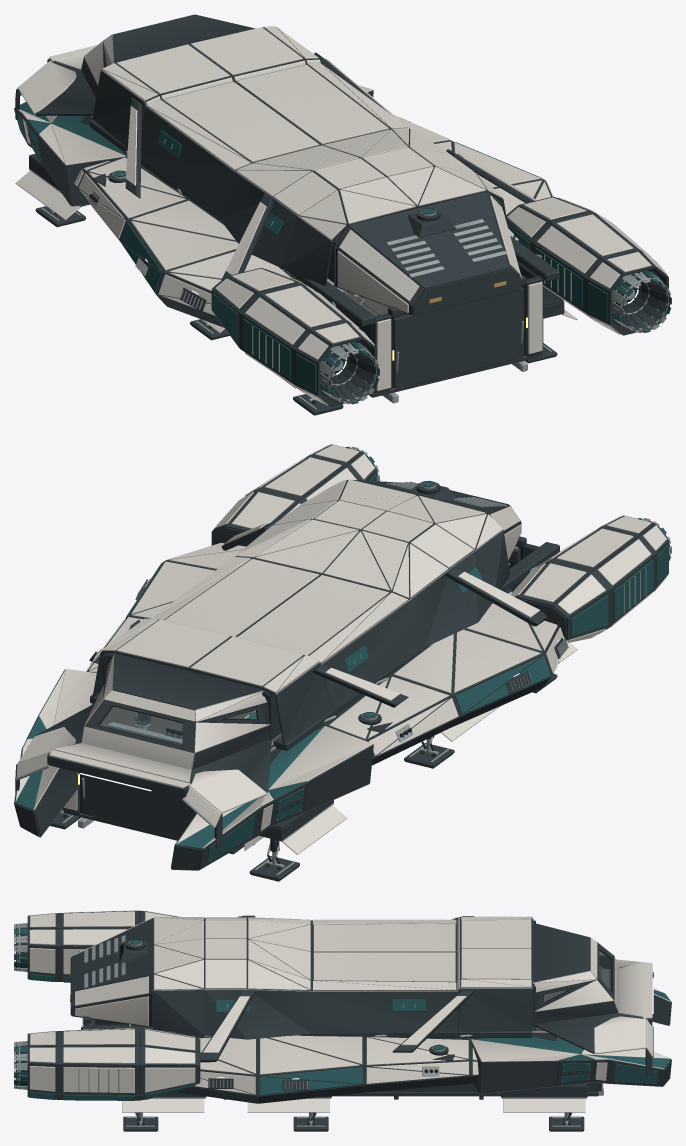
Rendered from atlas-mark-ii.glb.
3 renders of one model, top to bottom at view 1: azimuth 30°, elevation 25°; view 2: azimuth 150°, elevation 25°; view 3: azimuth 270°, elevation 25°, orthographic. The views are drawn at different scales.
Visible parts, largest first — view 1: MeridianDorsalShell_ivory Geometry, MeridianDorsalShell_dark Geometry, AftEngineering_dark Geometry, PortLoadShoulder_ivory Geometry, RampAft_dark Geometry, PortDrive_ivory Geometry, StarboardDrive_ivory Geometry, PortDrive_dark Geometry, StarboardDrive_dark Geometry, ExteriorStructure_dark Geometry, AftEngineering_ivory Geometry, PressureBridge_dark Geometry (+17 smaller); view 2: MeridianDorsalShell_ivory Geometry, MeridianDorsalShell_dark Geometry, PortLoadShoulder_ivory Geometry, PressureBridge_dark Geometry, PortDrive_ivory Geometry, PressureBridge_ivory Geometry, LoadingBow_ivory Geometry, StarboardDrive_ivory Geometry, PortBowCheek_dark Geometry, PortLoadShoulder_dark Geometry, RampFront_dark Geometry, PortDrive_dark Geometry (+19 smaller); view 3: MeridianDorsalShell_ivory Geometry, MeridianDorsalShell_dark Geometry, StarboardLoadShoulder_ivory Geometry, StarboardDrive_ivory Geometry, StarboardLoadShoulder_dark Geometry, PressureBridge_dark Geometry, AftEngineering_dark Geometry, PortDrive_ivory Geometry, StarboardBowCheek_dark Geometry, StarboardDrive_dark Geometry, ExteriorStructure_dark Geometry, AftEngineering_ivory Geometry (+25 smaller).
Boxes of the visible parts, x1,y1,x2,y2 form: MeridianDorsalShell_ivory Geometry: (102, 26, 536, 274); MeridianDorsalShell_dark Geometry: (92, 27, 533, 285); AftEngineering_dark Geometry: (334, 191, 521, 315); PortLoadShoulder_ivory Geometry: (74, 153, 290, 315); RampAft_dark Geometry: (394, 287, 523, 388); PortDrive_ivory Geometry: (215, 268, 374, 405); StarboardDrive_ivory Geometry: (507, 197, 666, 334); PortDrive_dark Geometry: (211, 268, 378, 406); StarboardDrive_dark Geometry: (506, 196, 670, 335); ExteriorStructure_dark Geometry: (63, 81, 559, 397); AftEngineering_ivory Geometry: (337, 195, 521, 312); PressureBridge_dark Geometry: (81, 14, 255, 97); MeridianDorsalShell_ivory Geometry: (102, 479, 540, 700); MeridianDorsalShell_dark Geometry: (92, 480, 547, 743); PortLoadShoulder_ivory Geometry: (322, 592, 568, 755); PressureBridge_dark Geometry: (83, 653, 273, 770); PortDrive_ivory Geometry: (510, 516, 666, 642); PressureBridge_ivory Geometry: (81, 656, 269, 769); LoadingBow_ivory Geometry: (16, 727, 267, 826); StarboardDrive_ivory Geometry: (215, 445, 374, 528); PortBowCheek_dark Geometry: (171, 729, 373, 870); PortLoadShoulder_dark Geometry: (270, 589, 563, 765); RampFront_dark Geometry: (82, 774, 195, 837); PortDrive_dark Geometry: (515, 515, 670, 640); MeridianDorsalShell_ivory Geometry: (154, 916, 531, 1052); MeridianDorsalShell_dark Geometry: (153, 915, 532, 1062); StarboardLoadShoulder_ivory Geometry: (194, 1036, 480, 1094); StarboardDrive_ivory Geometry: (29, 1028, 195, 1093); StarboardLoadShoulder_dark Geometry: (176, 1033, 556, 1103); PressureBridge_dark Geometry: (532, 919, 617, 1027); AftEngineering_dark Geometry: (70, 918, 153, 1026); PortDrive_ivory Geometry: (29, 910, 181, 974); StarboardBowCheek_dark Geometry: (470, 1038, 671, 1093); StarboardDrive_dark Geometry: (16, 1028, 200, 1100); ExteriorStructure_dark Geometry: (81, 993, 601, 1099); AftEngineering_ivory Geometry: (75, 919, 148, 1026).
Bounding box in the file's own units: 35.54 × 14.94 × 61.79.
Materials: 13 (2 with a texture image).
